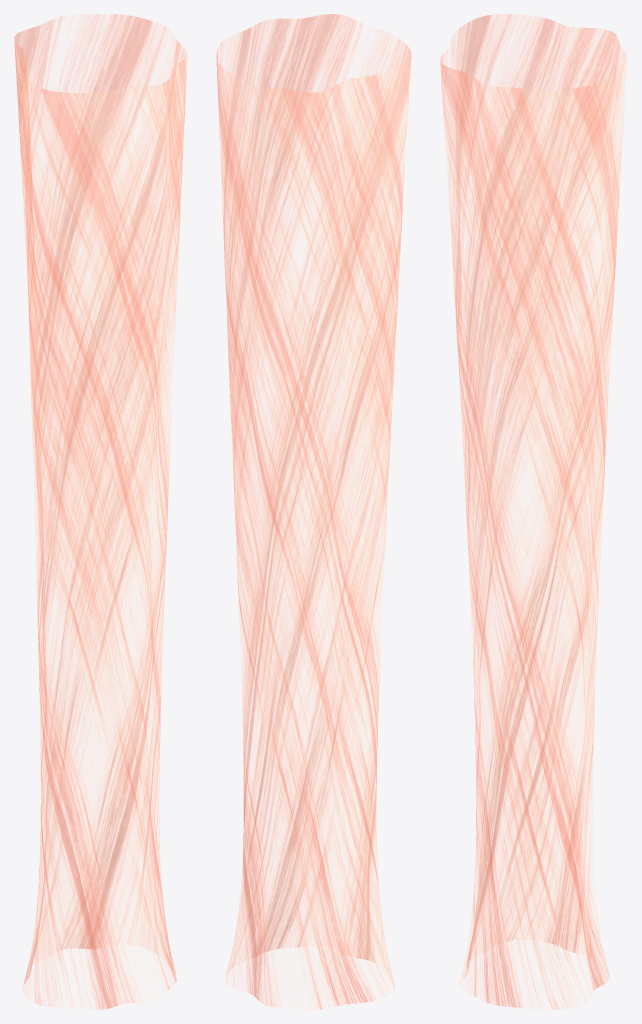
Rendered from devil_core_1.glb.
3 renders of one model, left to right at view 1: azimuth 30°, elevation 25°; view 2: azimuth 150°, elevation 25°; view 3: azimuth 270°, elevation 25°, orthographic.
Parts seen in each view (by area): view 1: devil_core_1; view 2: devil_core_1; view 3: devil_core_1.
Boxes of the visible parts, x1,y1,x2,y2 form: devil_core_1: [14, 14, 187, 1009]; devil_core_1: [216, 14, 411, 1009]; devil_core_1: [440, 14, 627, 1009].
Bounding box in the file's own units: 3.59 × 20 × 3.69.
Materials: 1 (1 with a texture image).
